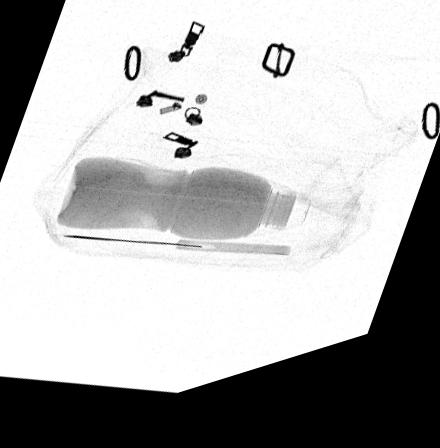Knife: (62, 238, 291, 274)
